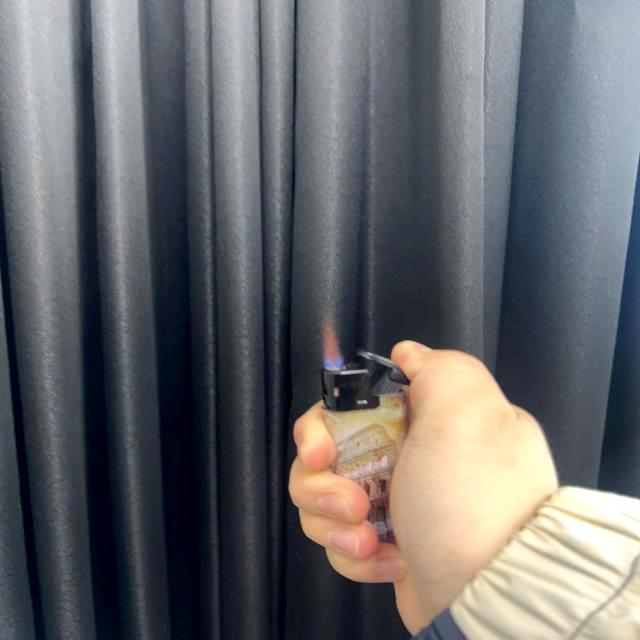fire: (318, 306, 347, 370)
